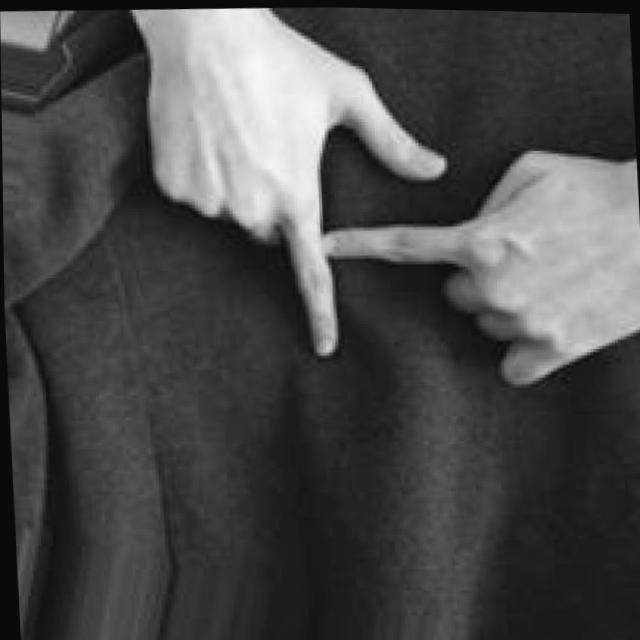F: (141, 3, 640, 399)
